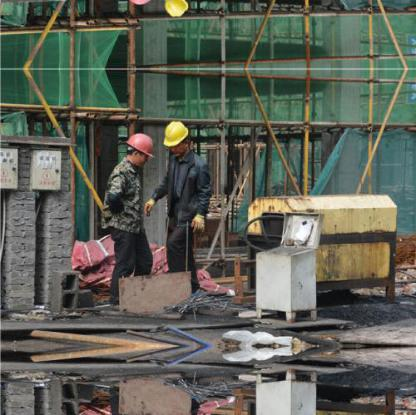helmet: (161, 119, 192, 155), (121, 130, 153, 164), (160, 0, 192, 18), (121, 0, 154, 7)
